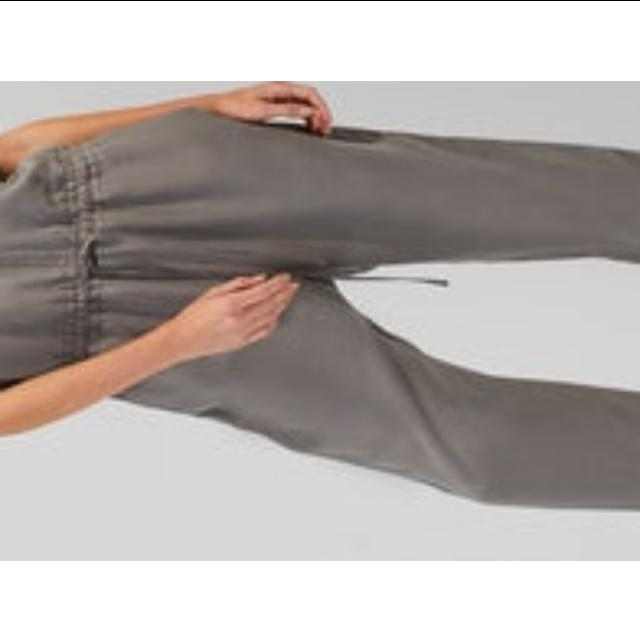silk: (0, 80, 640, 528)
